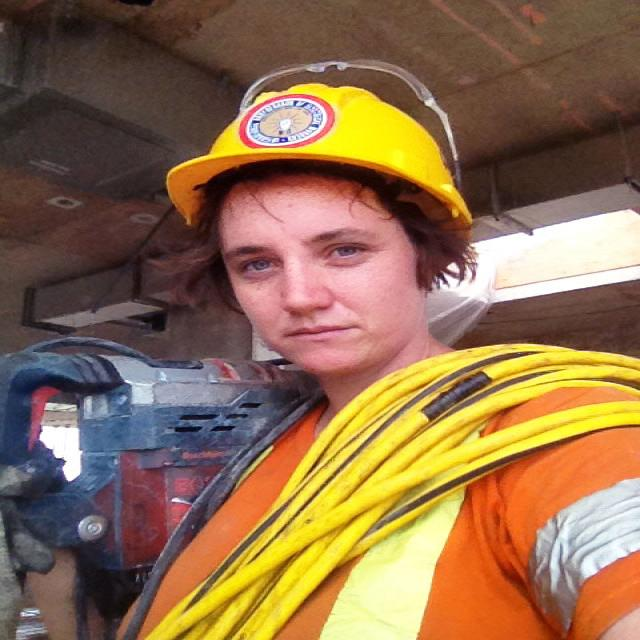Reflective-Jacket: (105, 341, 640, 640)
Safety-Helmet: (164, 66, 481, 225)
